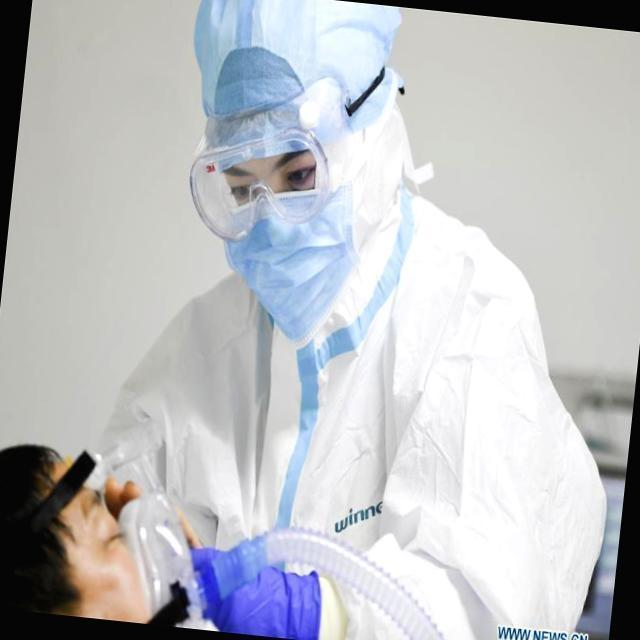apron: (188, 540, 320, 640)
gloves: (186, 0, 440, 141)
mask: (230, 227, 336, 325)
